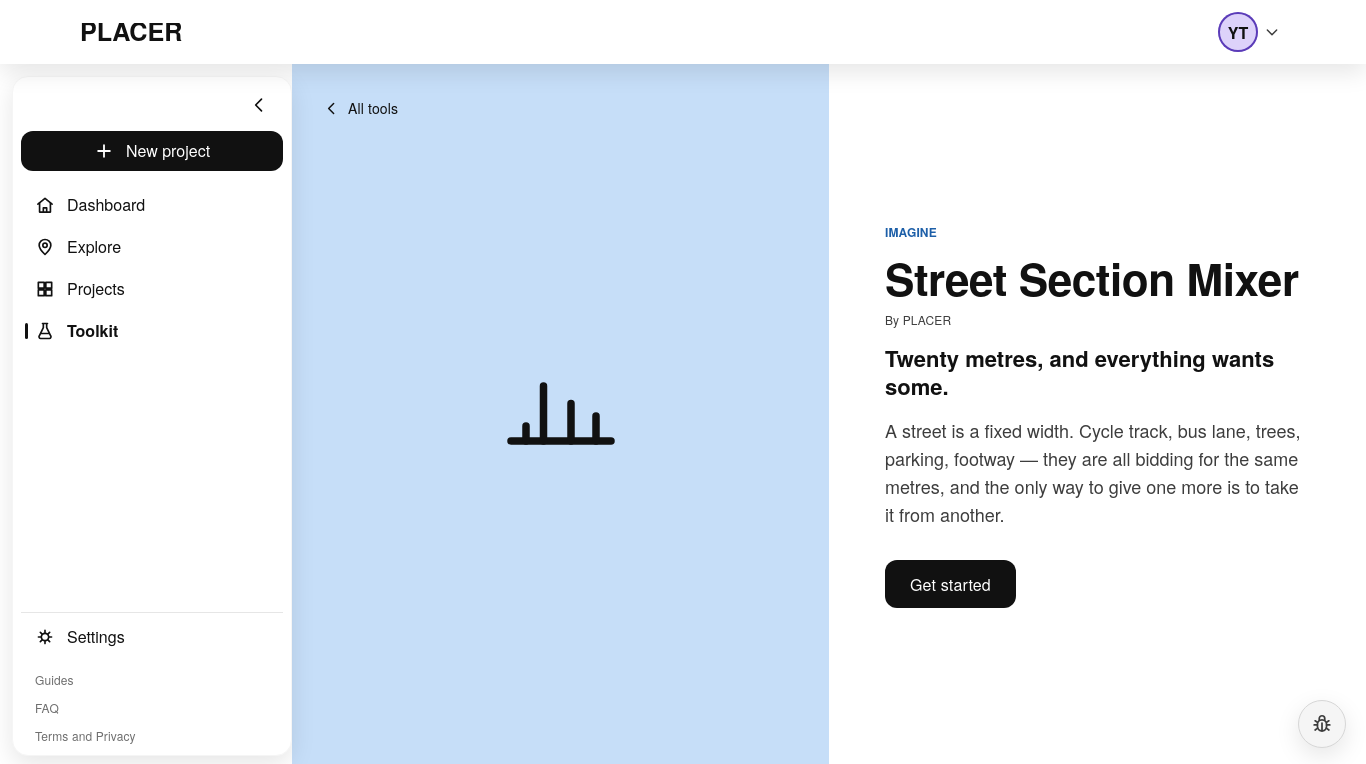
Test: inside the app › leaves the Toolkit again, and puts the URL on the new view
Expected: the heading "Street Section Mixer" is shown, left=885, top=252, right=1310, bottom=304
Click the button "Settings". click: click(96, 636)
box: left=21, top=617, right=283, bottom=657
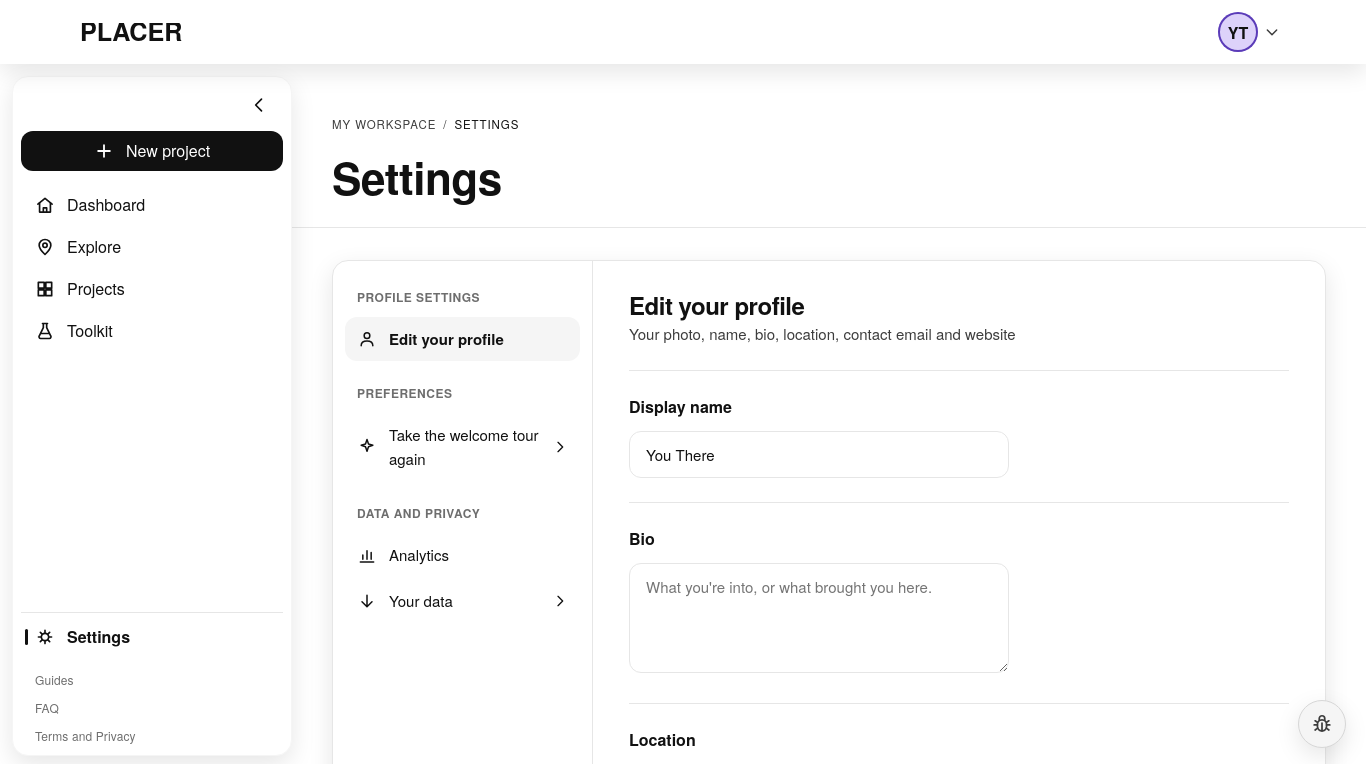
Now the heading "Street Section Mixer" is gone
